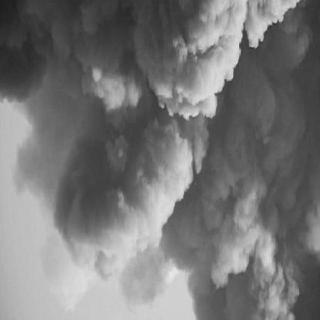Smoke: (12, 3, 320, 320)
